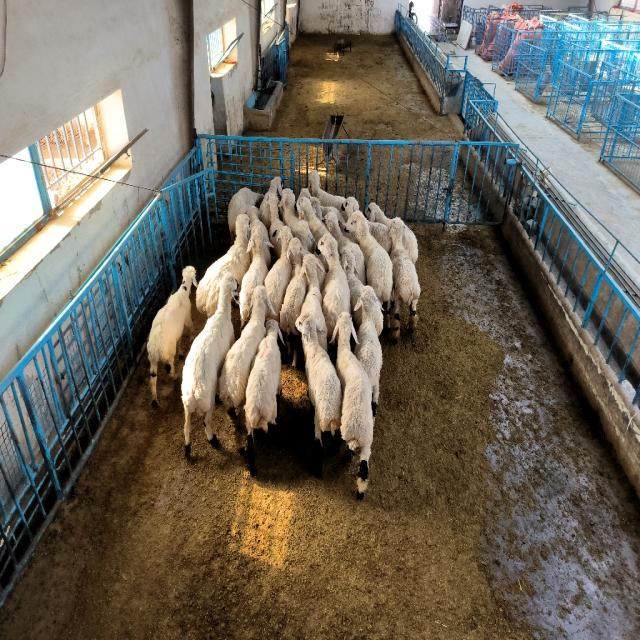sheep: (181, 273, 238, 454), (331, 312, 374, 498), (296, 312, 342, 476), (219, 285, 272, 419), (146, 267, 196, 406), (196, 213, 251, 317), (246, 320, 282, 476), (346, 212, 392, 328), (390, 218, 421, 341), (354, 285, 382, 416), (318, 232, 351, 341), (279, 237, 306, 366), (228, 177, 281, 238), (239, 225, 271, 326), (325, 212, 366, 285), (301, 253, 328, 351), (264, 225, 292, 319), (280, 188, 316, 253), (340, 247, 364, 329), (299, 188, 344, 222), (296, 197, 329, 242), (309, 170, 345, 209), (268, 193, 284, 259), (369, 222, 392, 252), (402, 225, 418, 263), (366, 203, 392, 226), (372, 298, 384, 334), (342, 197, 359, 218)
